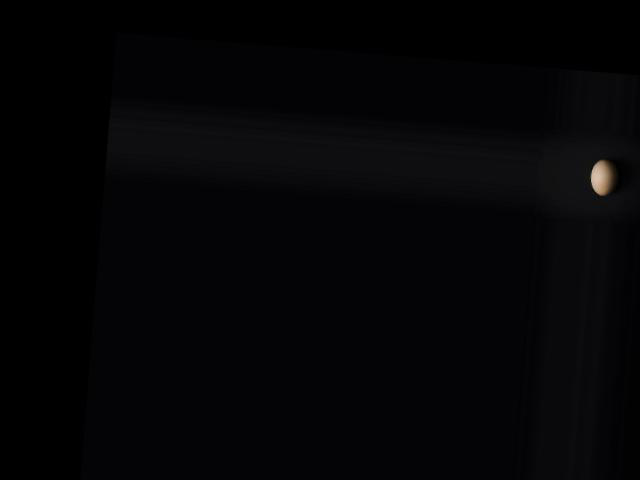egg: (588, 157, 618, 197)
